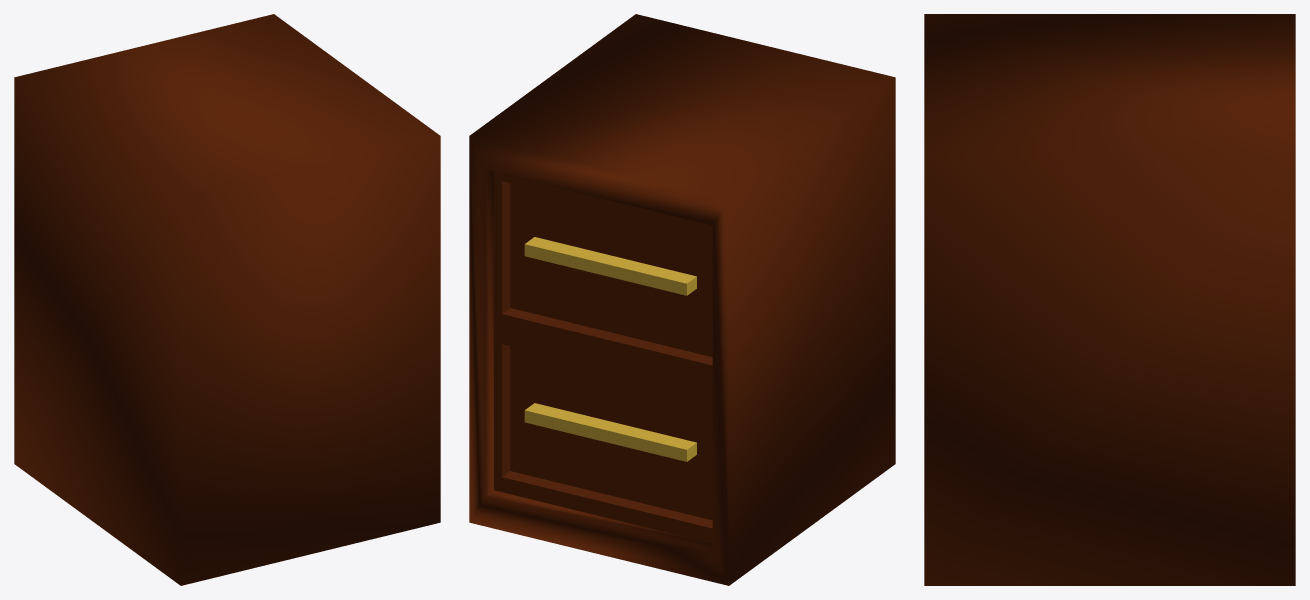
Rendered from Blockout_SideTable_02.fbx.
3 views of the same model, side by side, from view 1: azimuth 30°, elevation 25°; view 2: azimuth 150°, elevation 25°; view 3: azimuth 270°, elevation 25° (orthographic). The views are drawn at different scales.
Parts seen in each view (by area): view 1: pasted__pasted__pCube2; view 2: pasted__pasted__pCube2; view 3: pasted__pasted__pCube2.
Boxes of the visible parts, x1,y1,x2,y2 form: pasted__pasted__pCube2: [14, 14, 440, 585]; pasted__pasted__pCube2: [469, 14, 895, 585]; pasted__pasted__pCube2: [924, 14, 1295, 585].
Bounding box in the file's own units: 45 × 64 × 50.
